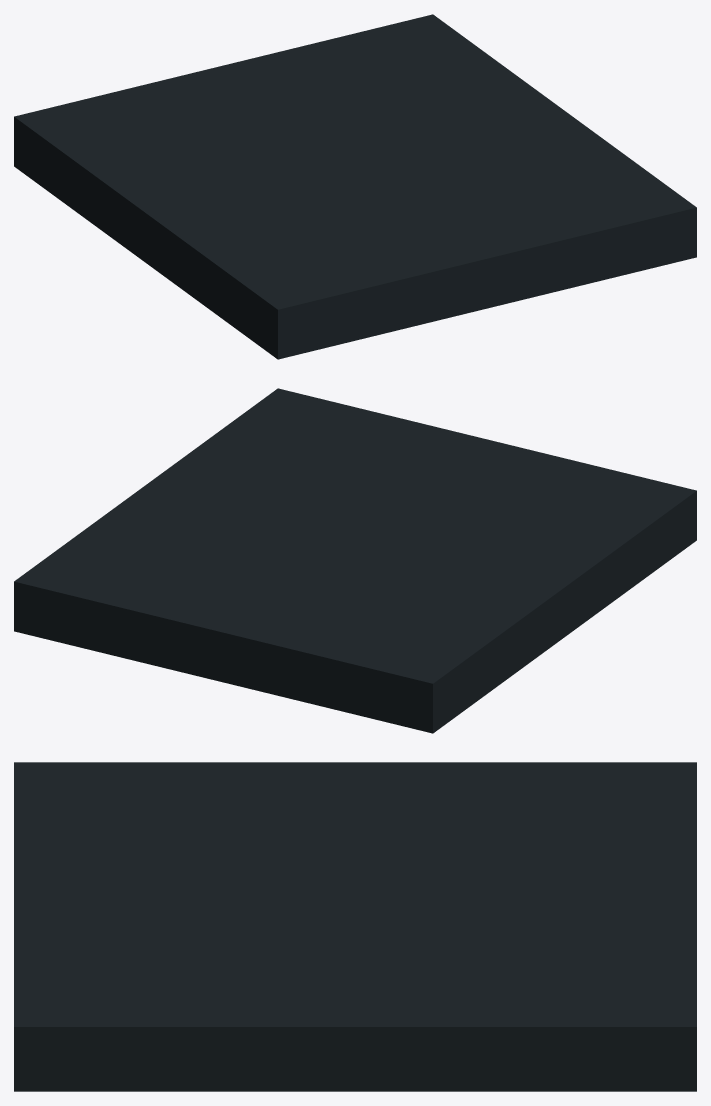
The model's file is casino-floor.glb.
3 views of the same model, one above another, from view 1: azimuth 30°, elevation 25°; view 2: azimuth 150°, elevation 25°; view 3: azimuth 270°, elevation 25° (orthographic). The views are drawn at different scales.
Visible parts, largest first — view 1: Room_Main_Static; view 2: Room_Main_Static; view 3: Room_Main_Static.
Boxes of the visible parts, <box> form: Room_Main_Static: <box>14,14,696,359</box>; Room_Main_Static: <box>14,388,696,733</box>; Room_Main_Static: <box>14,762,696,1091</box>.
Bounding box in the file's own units: 44 × 5 × 48.
6 materials, 3 textured.
